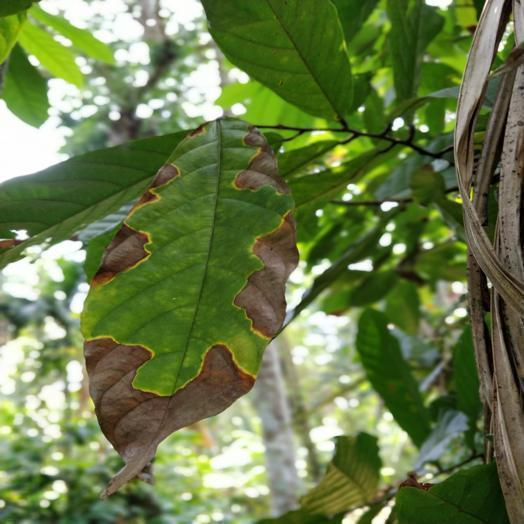Potassium: (81, 119, 297, 495)
